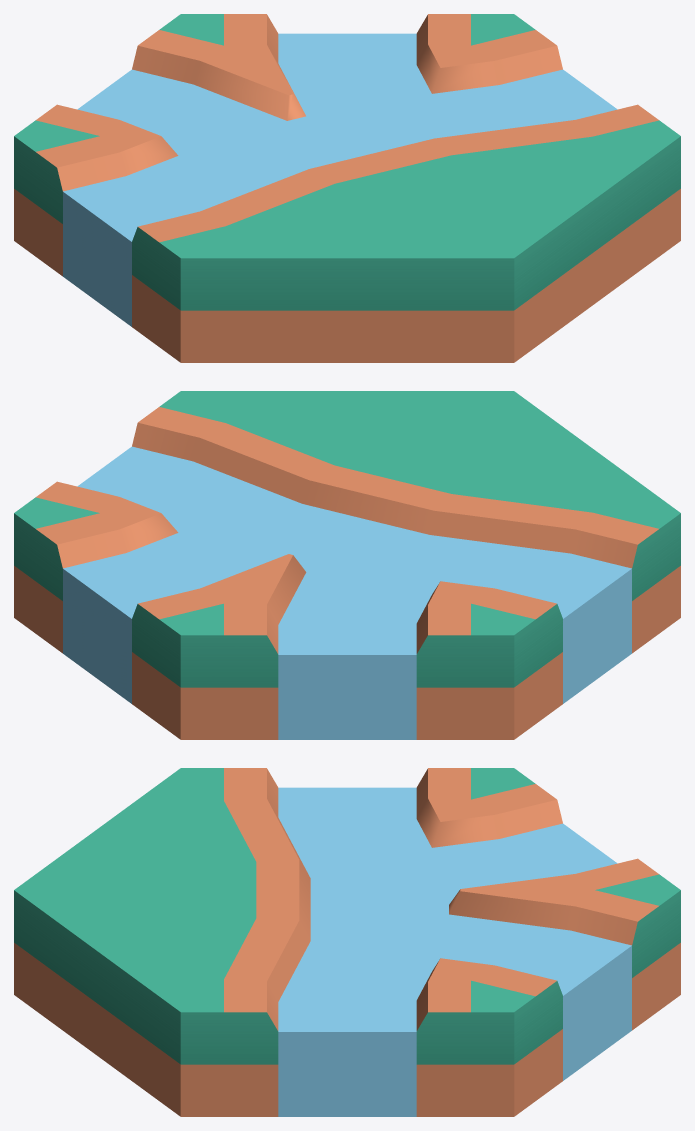
The model's file is river-intersectionH.fbx.
3 views of the same model, one above another, from view 1: azimuth 30°, elevation 25°; view 2: azimuth 150°, elevation 25°; view 3: azimuth 270°, elevation 25° (orthographic).
Parts seen in each view (by area): view 1: river_intersectionH; view 2: river_intersectionH; view 3: river_intersectionH.
Boxes of the visible parts, x1,y1,x2,y2 form: river_intersectionH: (14,14,680,362); river_intersectionH: (14,391,680,739); river_intersectionH: (14,768,680,1116).
Size of the model in its own units: 100 by 20 by 115.
Materials: 1 (1 with a texture image).
